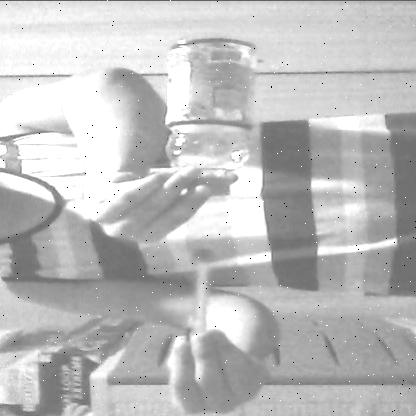Plastic Bottle: (152, 30, 277, 202)
